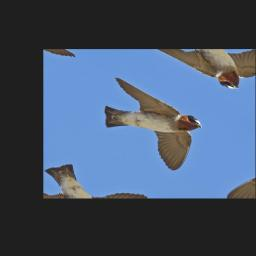Swallow: (74, 75, 218, 174)
